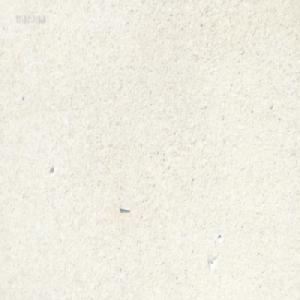Nail: (119, 205, 129, 213)
